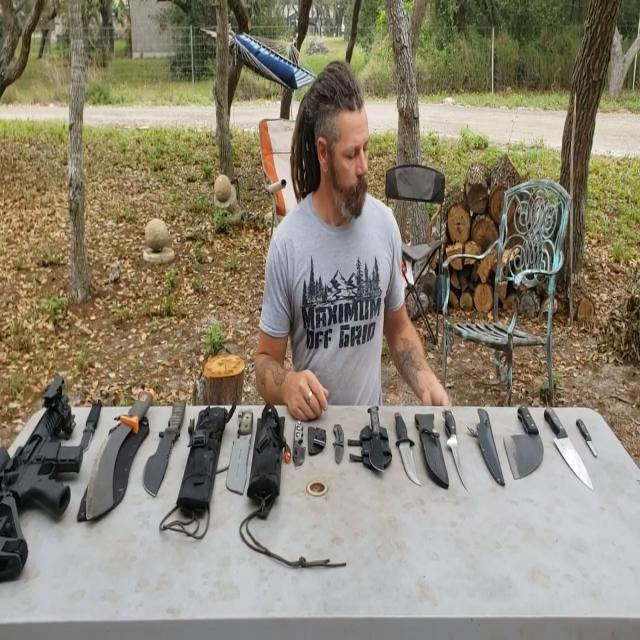knife: (79, 372, 156, 534), (540, 398, 596, 491), (140, 402, 190, 506), (221, 402, 265, 508), (504, 399, 546, 488), (438, 403, 474, 494), (392, 391, 420, 495), (356, 391, 388, 470), (77, 384, 106, 464), (286, 411, 315, 482), (574, 404, 601, 462), (329, 406, 350, 474)
long weapon: (0, 361, 84, 600)
